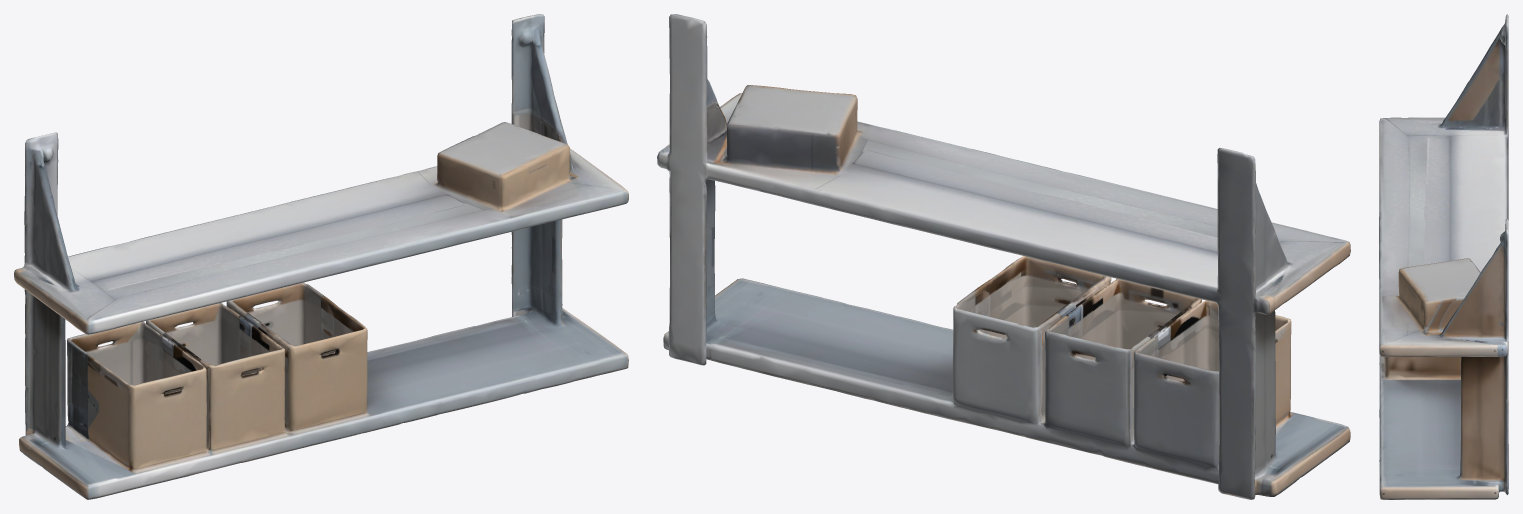
The picture shows the model from 3 angles, left to right: view 1: azimuth 30°, elevation 25°; view 2: azimuth 150°, elevation 25°; view 3: azimuth 270°, elevation 25°; orthographic projection. The views are drawn at different scales.
Parts seen in each view (by area): view 1: Mesh1.0; view 2: Mesh1.0; view 3: Mesh1.0.
Boxes of the visible parts, <box> form: Mesh1.0: <box>14,14,628,499</box>; Mesh1.0: <box>657,14,1350,499</box>; Mesh1.0: <box>1379,14,1508,499</box>.
Size of the model in its own units: 200 by 108 by 47.84.
Materials: 1 (1 with a texture image).
